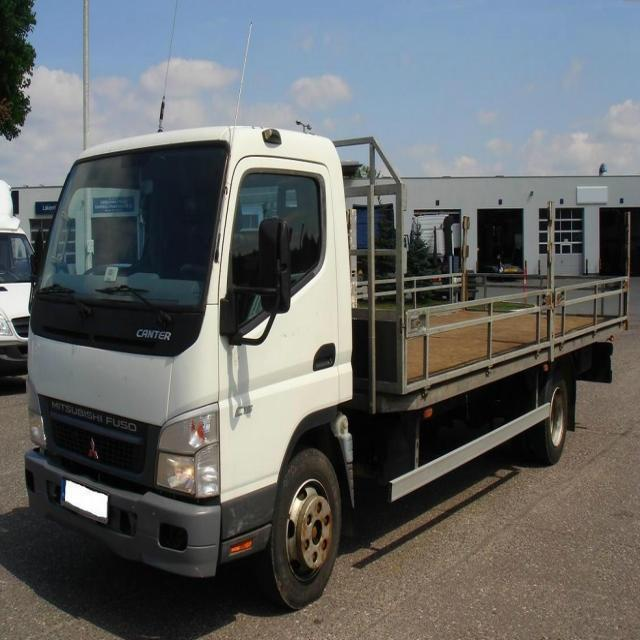truck: (24, 128, 628, 609)
